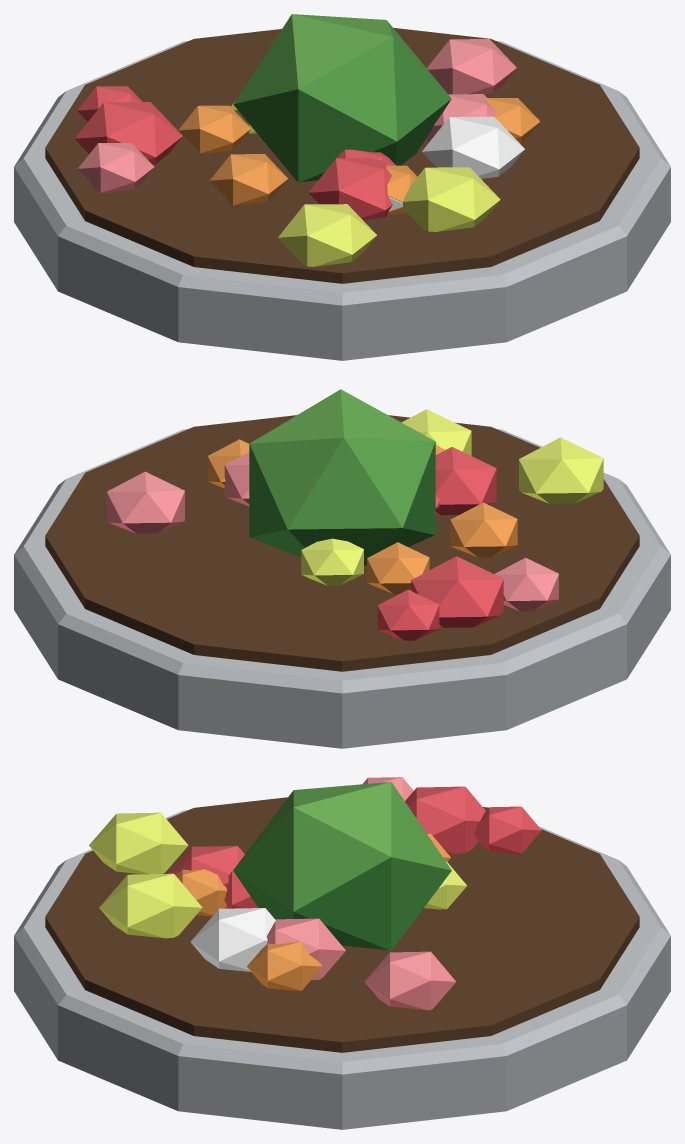
The model's file is FlowerBed_0.glb.
3 renders of one model, top to bottom at view 1: azimuth 30°, elevation 25°; view 2: azimuth 150°, elevation 25°; view 3: azimuth 270°, elevation 25°, orthographic.
Visible parts, largest first — view 1: FlowerBed_0; view 2: FlowerBed_0; view 3: FlowerBed_0.
Part boxes in pixels (x1,y1,x2,y2): FlowerBed_0: [14, 14, 670, 360]; FlowerBed_0: [14, 389, 670, 748]; FlowerBed_0: [14, 777, 670, 1129].
Size of the model in its own units: 8.4 by 2.77 by 8.4.
Materials: 1 (1 with a texture image).
